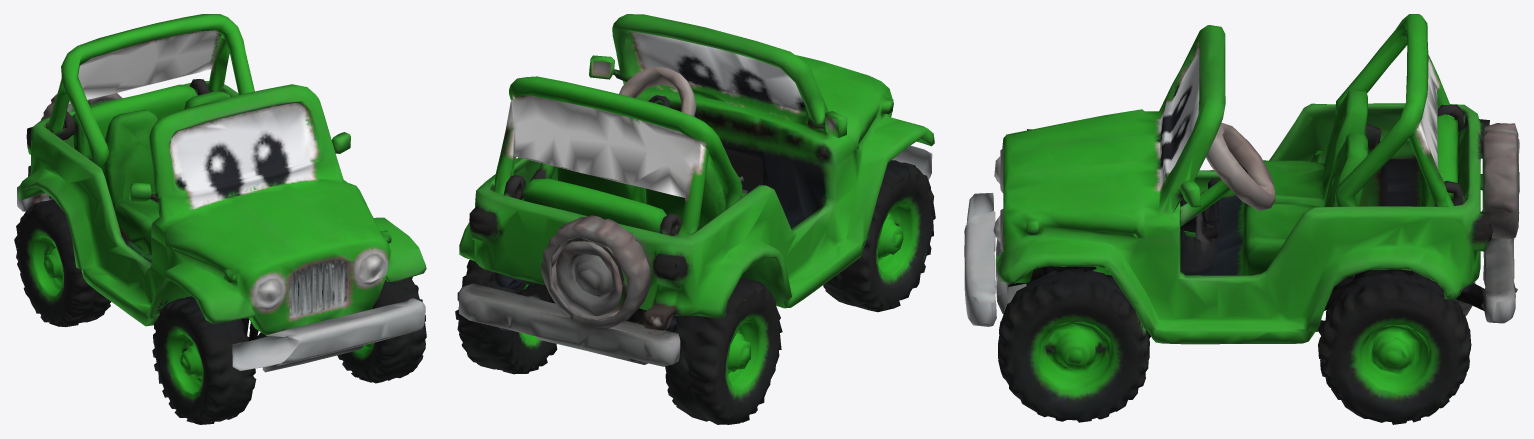
The model's file is jeep_green.glb.
3 renders of one model, left to right at view 1: azimuth 30°, elevation 25°; view 2: azimuth 150°, elevation 25°; view 3: azimuth 270°, elevation 25°, orthographic. The views are drawn at different scales.
Visible parts, largest first — view 1: Body, Wheel_RR, Wheel_FR; view 2: Body, Wheel_FR, Wheel_RR; view 3: Body, Wheel_RL, Wheel_FL.
Boxes of the visible parts, x1,y1,x2,y2 form: Body: (14, 14, 426, 422); Wheel_RR: (17, 206, 110, 327); Wheel_FR: (145, 284, 236, 424); Body: (455, 14, 935, 422); Wheel_FR: (824, 172, 931, 312); Wheel_RR: (686, 278, 782, 424); Body: (964, 14, 1519, 412); Wheel_RL: (1318, 271, 1459, 424); Wheel_FL: (1015, 270, 1170, 422).
Size of the model in its own units: 2.24 by 2.48 by 4.
Materials: 1 (1 with a texture image).
